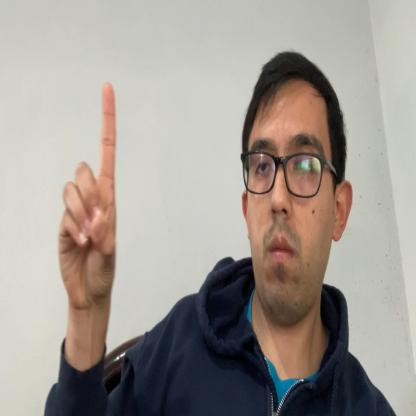D: (58, 82, 117, 312)
